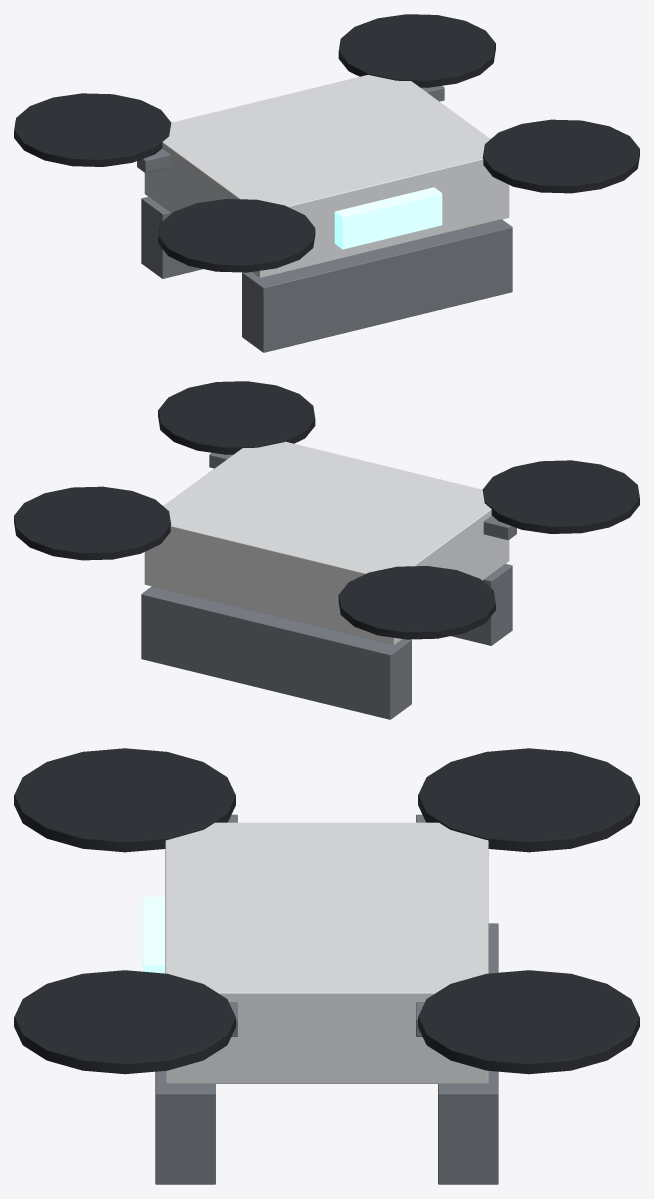
The model's file is nomad_utility_drone.fbx.
The picture shows the model from 3 angles, top to bottom: view 1: azimuth 30°, elevation 25°; view 2: azimuth 150°, elevation 25°; view 3: azimuth 270°, elevation 25°; orthographic projection. The views are drawn at different scales.
Visible parts, largest first — view 1: Utility_Drone; view 2: Utility_Drone; view 3: Utility_Drone.
Boxes of the visible parts, x1=… form: Utility_Drone: x1=14, y1=14, x2=639, y2=352; Utility_Drone: x1=14, y1=381, x2=639, y2=719; Utility_Drone: x1=14, y1=748, x2=639, y2=1184.
Size of the model in its own units: 85.1 by 24.38 by 71.3.
